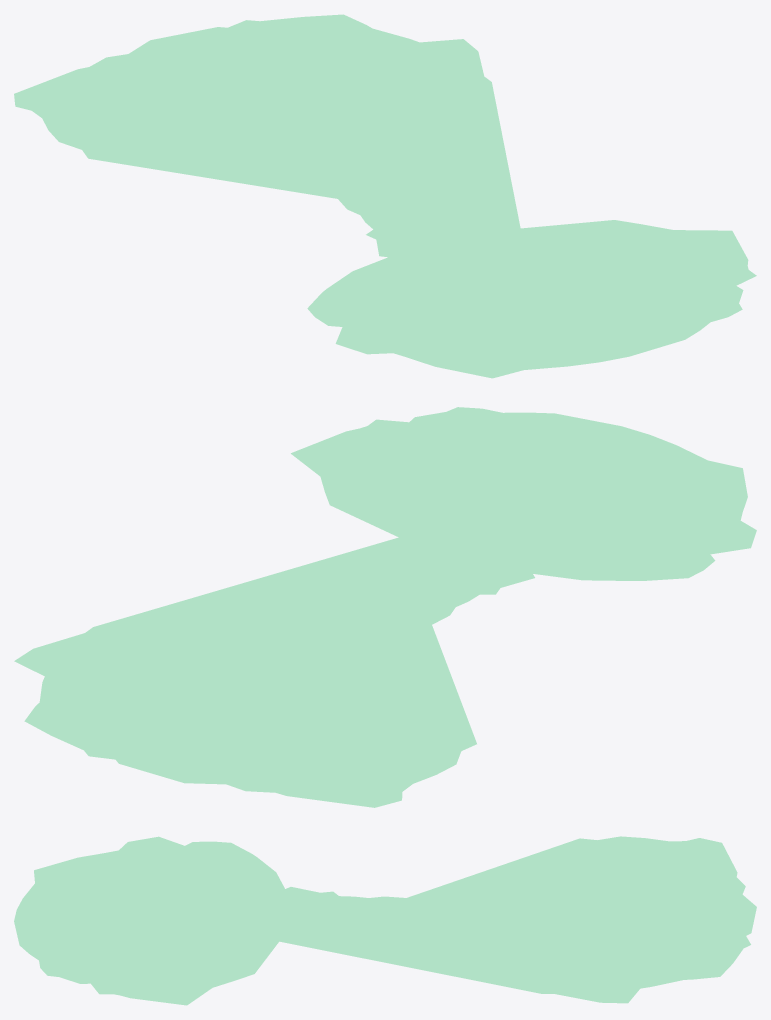
The model's file is path_02.fbx.
3 views of the same model, one above another, from view 1: azimuth 30°, elevation 25°; view 2: azimuth 150°, elevation 25°; view 3: azimuth 270°, elevation 25° (orthographic). The views are drawn at different scales.
Visible parts, largest first — view 1: path_02; view 2: path_02; view 3: path_02.
Part boxes in pixels (box(x1,y1,x2,y2)): path_02: box(14, 14, 756, 378); path_02: box(14, 407, 756, 807); path_02: box(14, 836, 756, 1005).
Bounding box in the file's own units: 5247 × 0.000763 × 9741.
